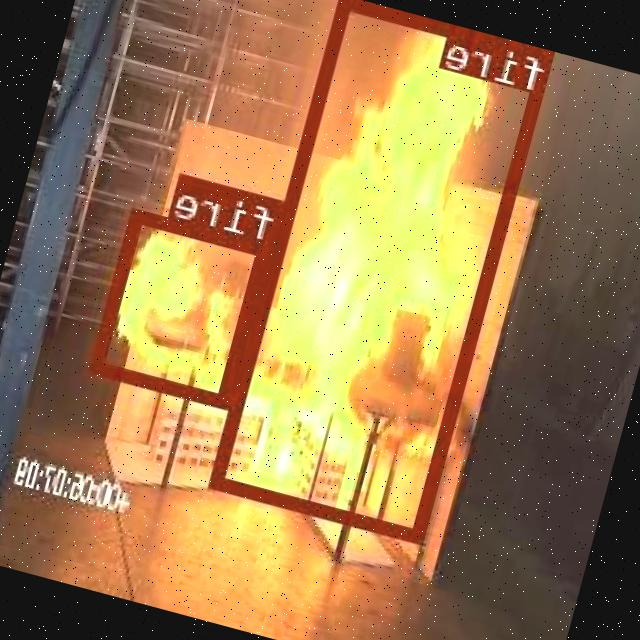fire: (212, 0, 555, 541), (92, 208, 273, 408)
